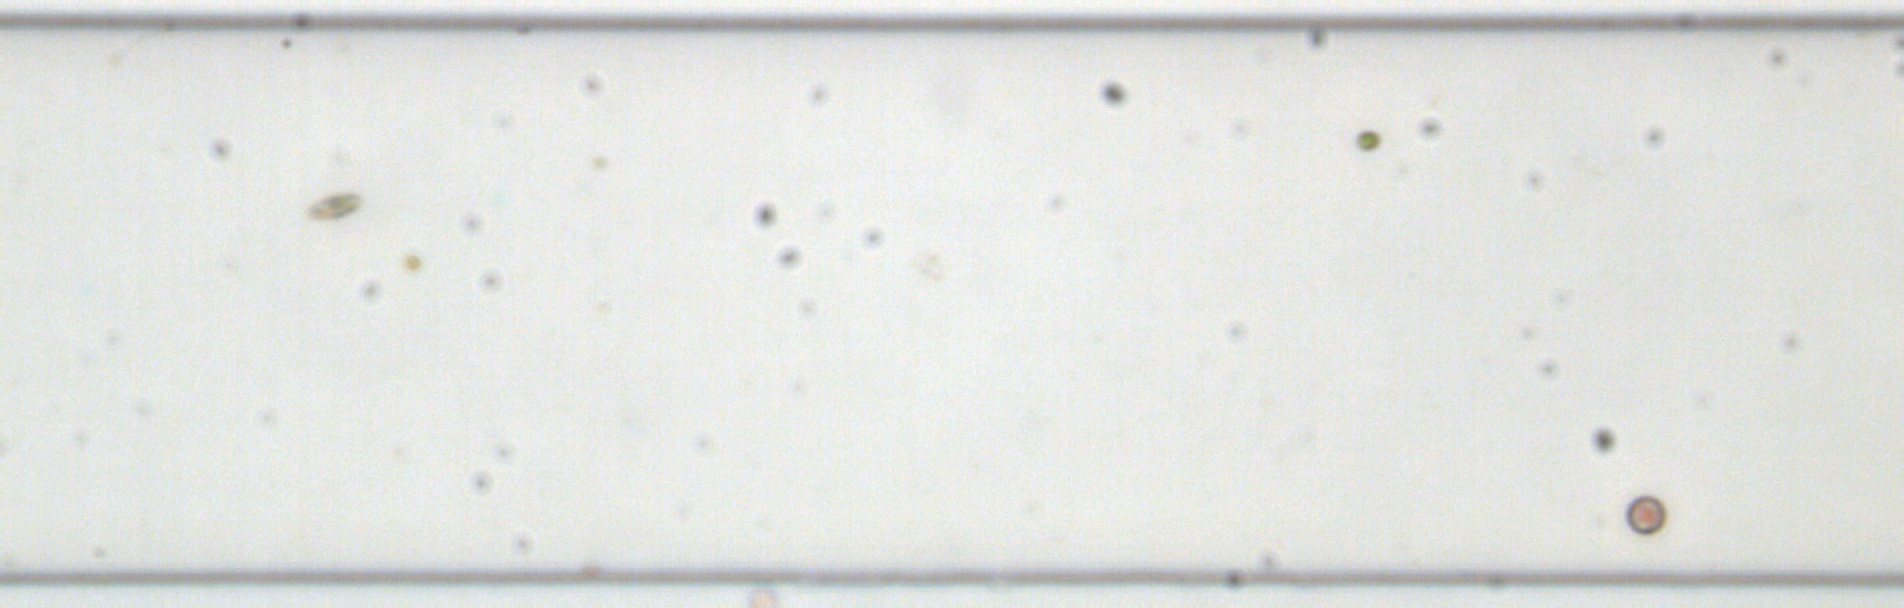Chlorella: (1354, 126, 1381, 150), (401, 252, 421, 271), (590, 154, 605, 170)
Dunaliella salina: (300, 191, 365, 222)
Porphyridium: (1623, 493, 1666, 534)
